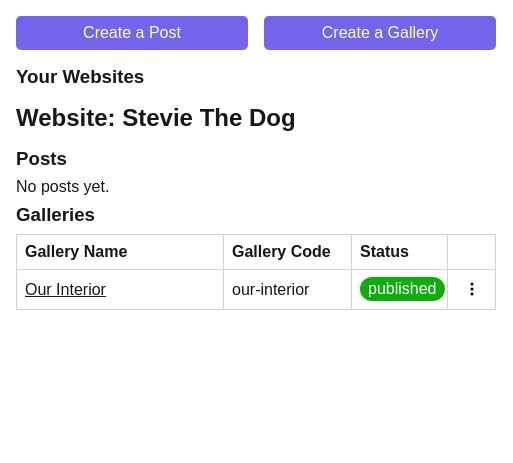
Dashboard page › moves a gallery to draft from its ⋮ menu through the gallery status route
The width and height of the screenshot is (513, 463).
Click the button named "Actions for Our Interior": x=472, y=289 [460, 278, 483, 300]
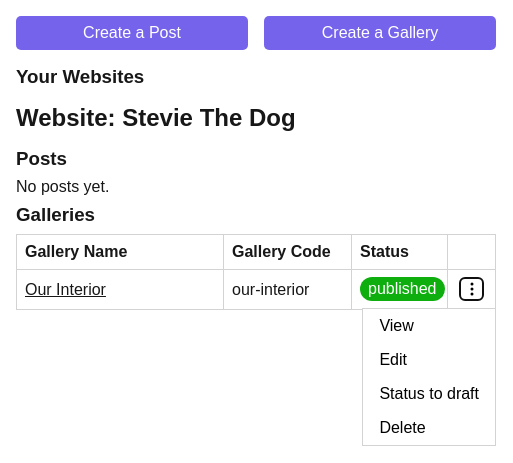
Click the button "Status to draft": x=429, y=394 [363, 377, 495, 411]
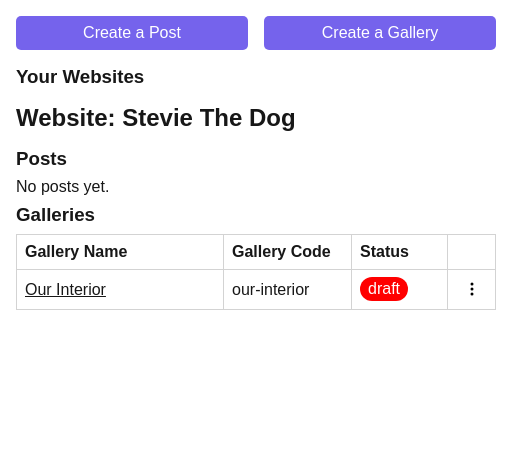
expect the text "draft" is shown: met, box [360, 277, 408, 301]
